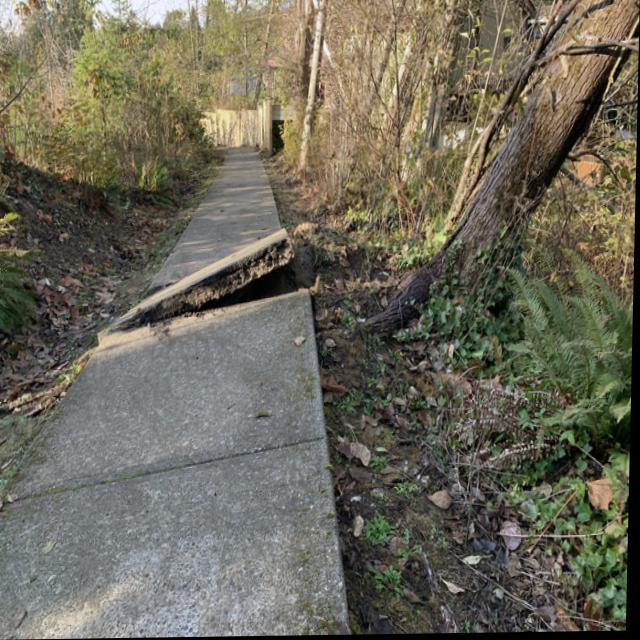hole: (121, 217, 322, 361)
